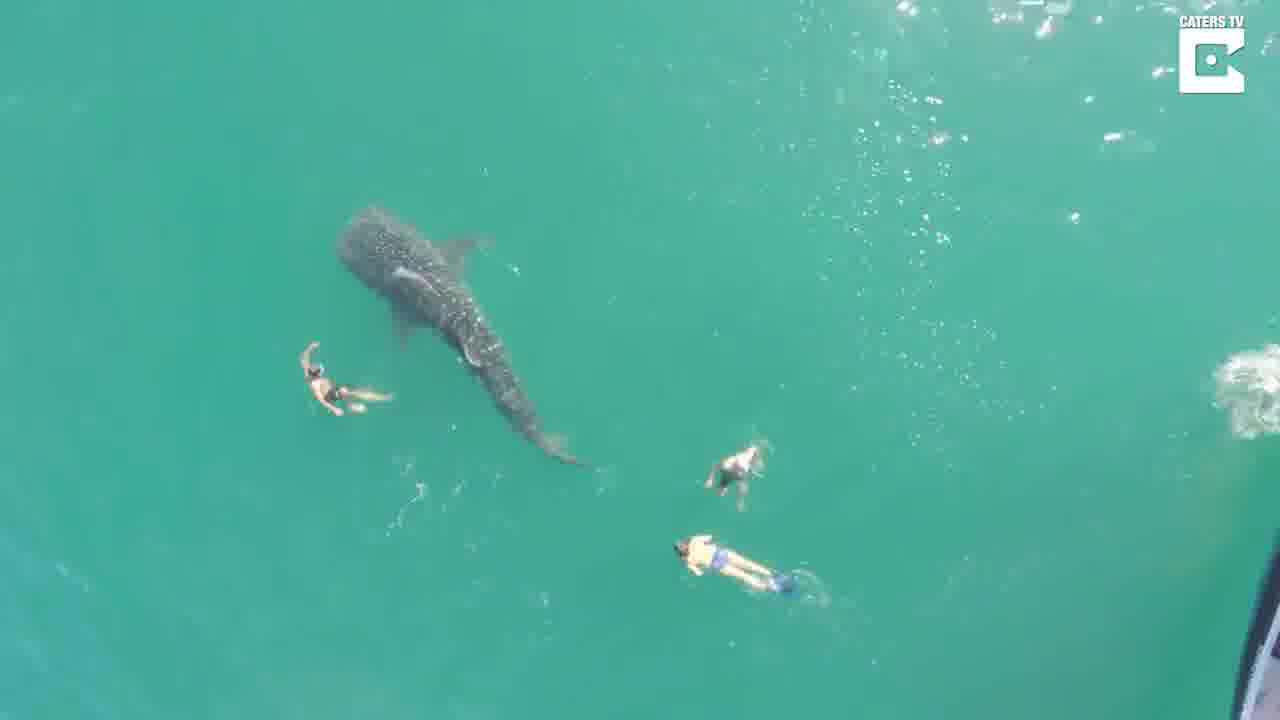swimmer: (654, 543, 796, 599), (292, 339, 388, 416), (694, 436, 760, 496)
